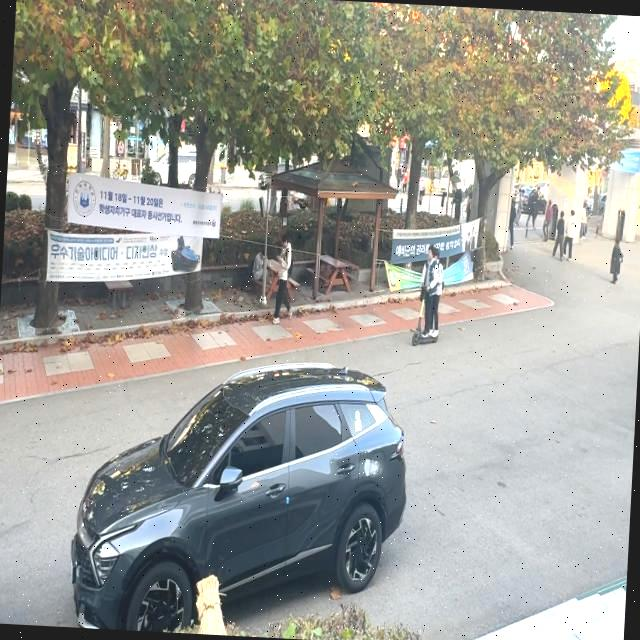bare_head: (431, 246, 444, 265), (424, 243, 436, 261)
human: (420, 247, 436, 336), (429, 247, 444, 337)
kickboard: (404, 327, 446, 346)
